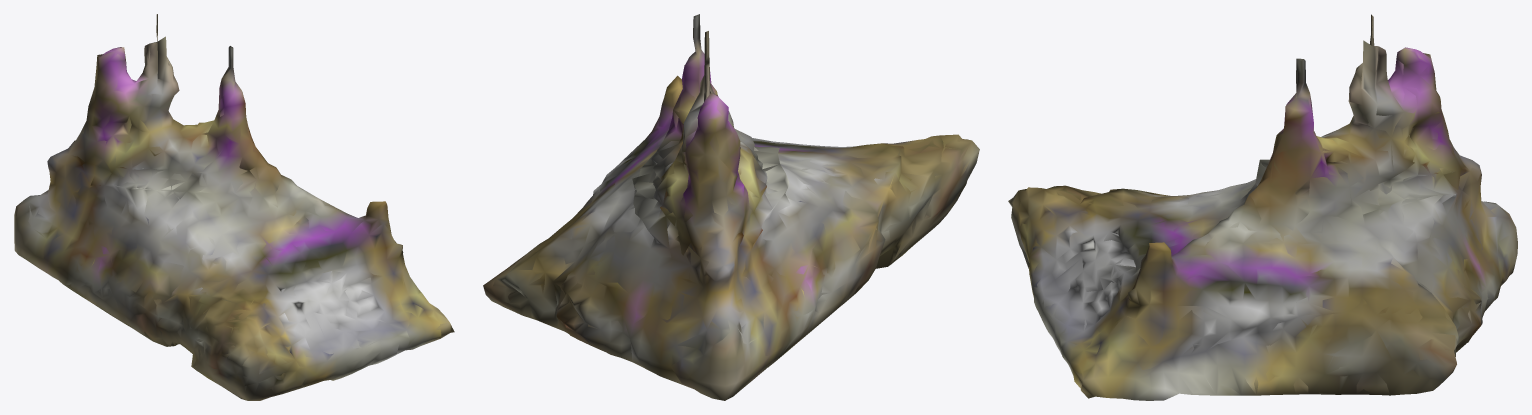
The model's file is yuri_war_factory.glb.
The picture shows the model from 3 angles, left to right: view 1: azimuth 30°, elevation 25°; view 2: azimuth 150°, elevation 25°; view 3: azimuth 270°, elevation 25°; orthographic projection. The views are drawn at different scales.
Visible parts, largest first — view 1: yuri_war_factory; view 2: yuri_war_factory; view 3: yuri_war_factory.
Boxes of the visible parts, bbox=[...] form: yuri_war_factory: bbox=[14, 14, 454, 400]; yuri_war_factory: bbox=[483, 14, 979, 400]; yuri_war_factory: bbox=[1008, 14, 1517, 400].
Size of the model in its own units: 1.41 by 1.4 by 2.2.
